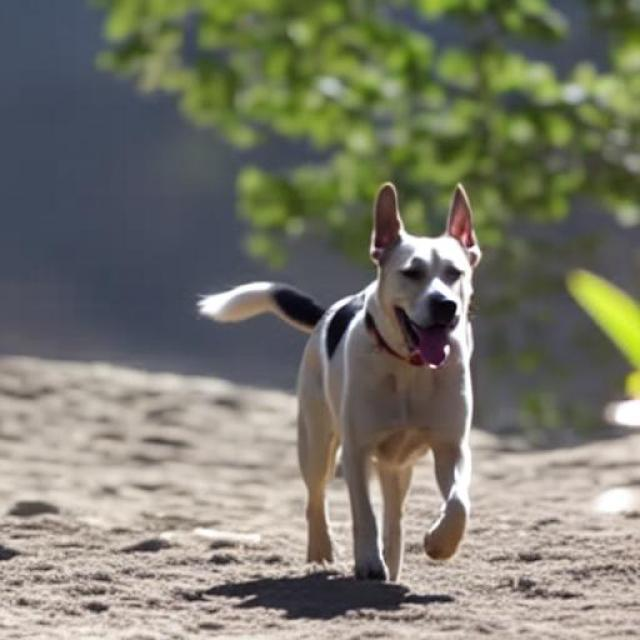Dog: (198, 182, 483, 580)
